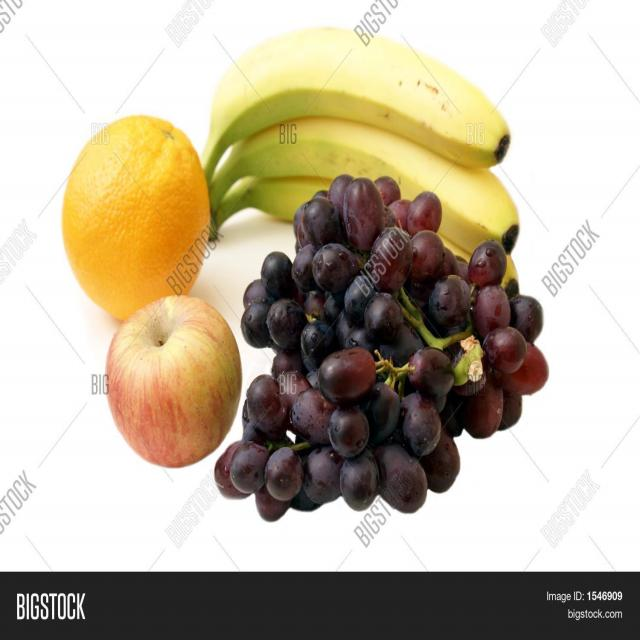apple: (97, 293, 249, 465)
banana: (183, 35, 526, 282), (58, 112, 215, 332)
grape: (231, 190, 553, 510)
